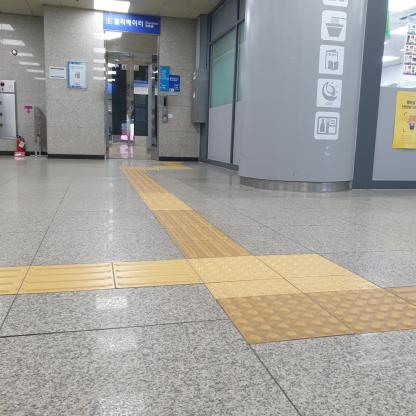go: (16, 263, 116, 294), (112, 259, 205, 288), (174, 238, 254, 259), (165, 227, 232, 242), (157, 217, 216, 229)
stop: (218, 293, 356, 346), (304, 288, 416, 334), (187, 255, 284, 283), (255, 253, 356, 278)
